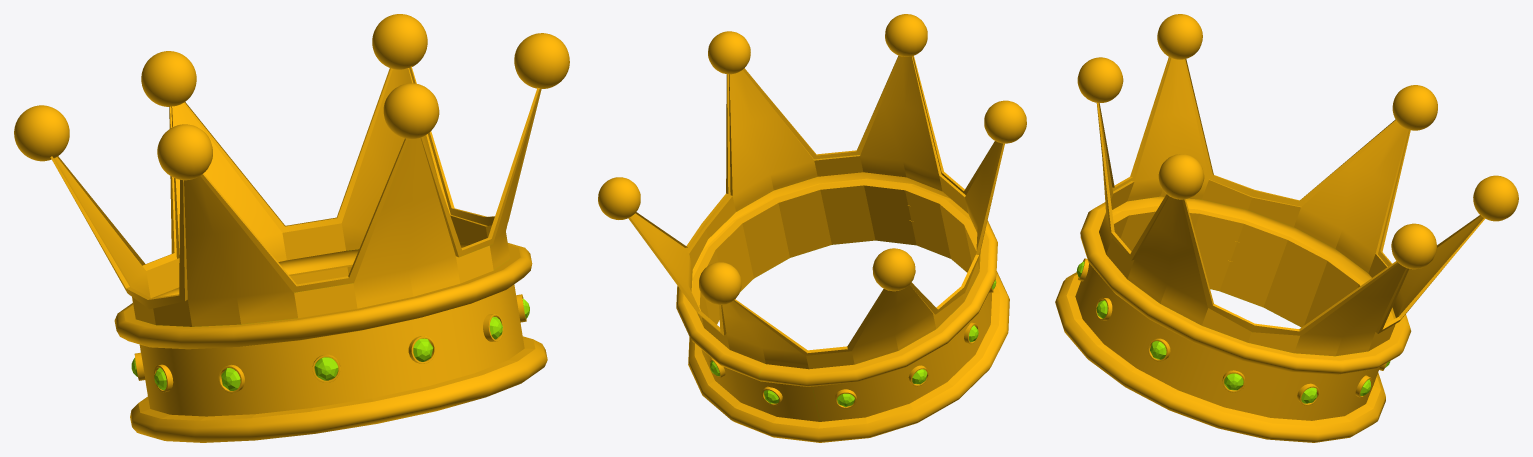
The model's file is Crown_Boy.fbx.
3 views of the same model, side by side, from view 1: azimuth 30°, elevation 25°; view 2: azimuth 150°, elevation 25°; view 3: azimuth 270°, elevation 25° (orthographic). The views are drawn at different scales.
Parts seen in each view (by area): view 1: Crown; view 2: Crown; view 3: Crown.
Boxes of the visible parts, x1,y1,x2,y2 form: Crown: [14, 14, 569, 442]; Crown: [598, 14, 1026, 442]; Crown: [1055, 14, 1518, 442].
Size of the model in its own units: 49.94 by 49.64 by 60.39.
